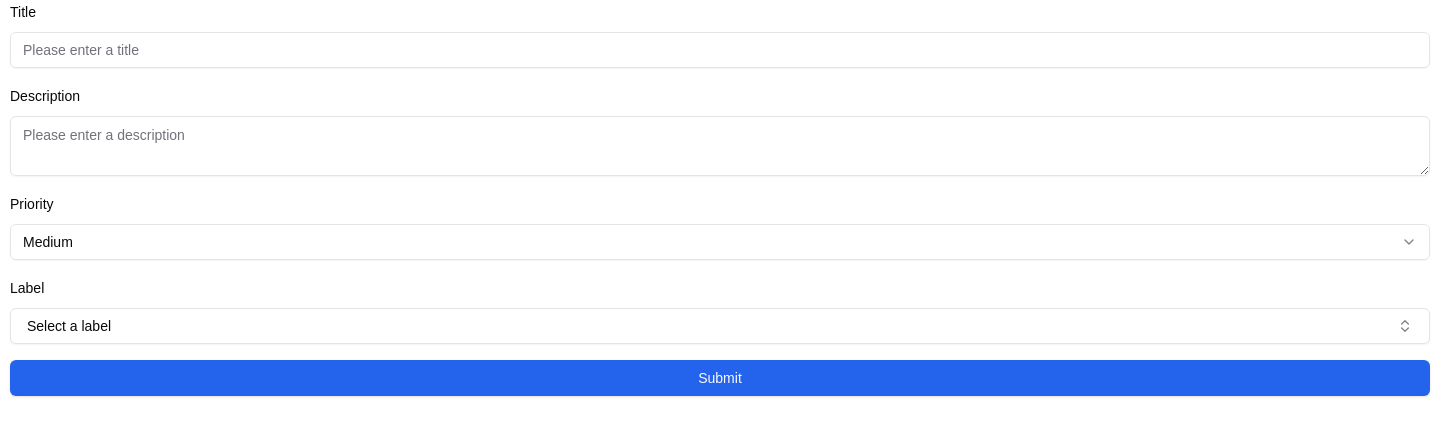
it: TaskForm › shows validation errors for empty required fields
Click the button "Submit" at coordinates (720, 378), box [10,360,1430,396]
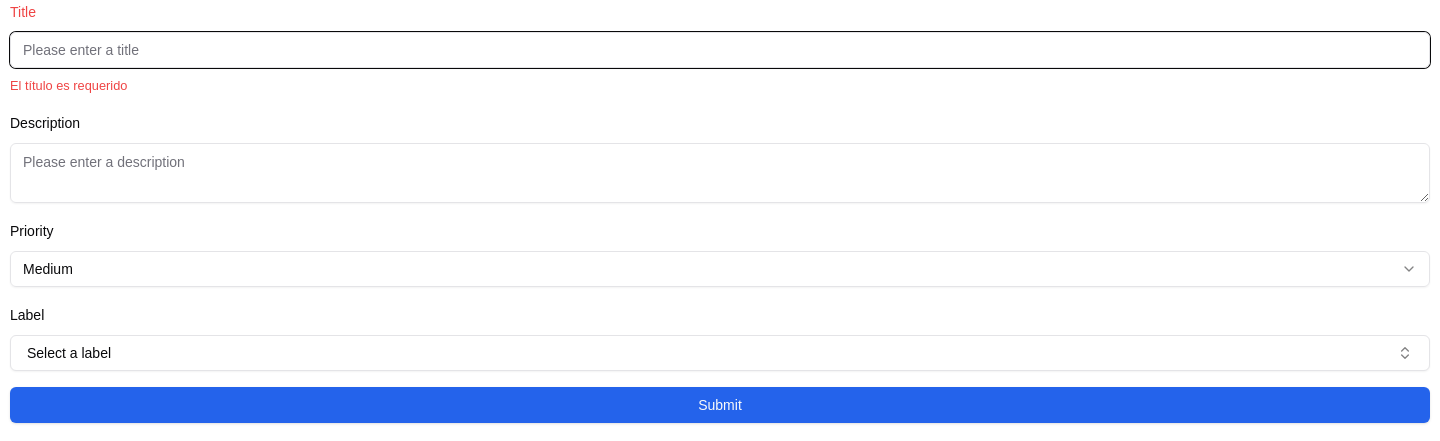
Expected: the text "El título es requerido" is shown, [10,78,127,93]
